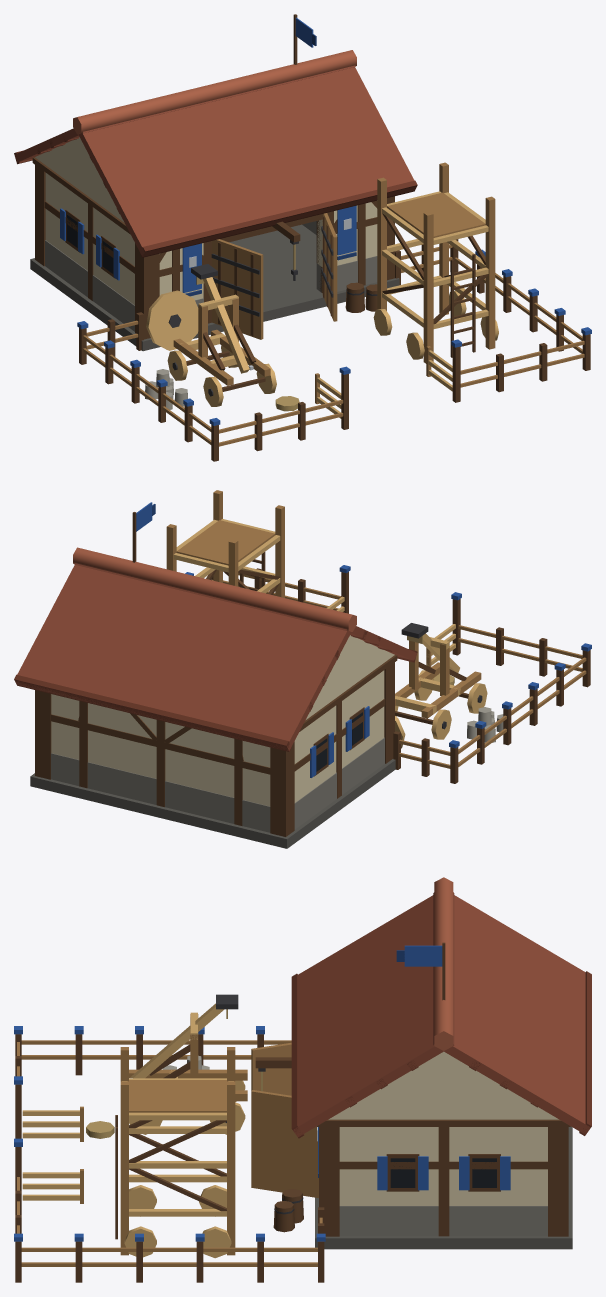
Rendered from siege-workshop.glb.
3 renders of one model, top to bottom at view 1: azimuth 30°, elevation 25°; view 2: azimuth 150°, elevation 25°; view 3: azimuth 270°, elevation 25°, orthographic. The views are drawn at different scales.
Visible parts, largest first — view 1: siege-workshop; view 2: siege-workshop; view 3: siege-workshop.
Boxes of the visible parts, left/top/right/bottom form: siege-workshop: left=14, top=14, right=591, bottom=461; siege-workshop: left=14, top=490, right=591, bottom=848; siege-workshop: left=14, top=877, right=591, bottom=1282.
Bounding box in the file's own units: 12.22 × 7.54 × 14.13.
Materials: 1 (1 with a texture image).
